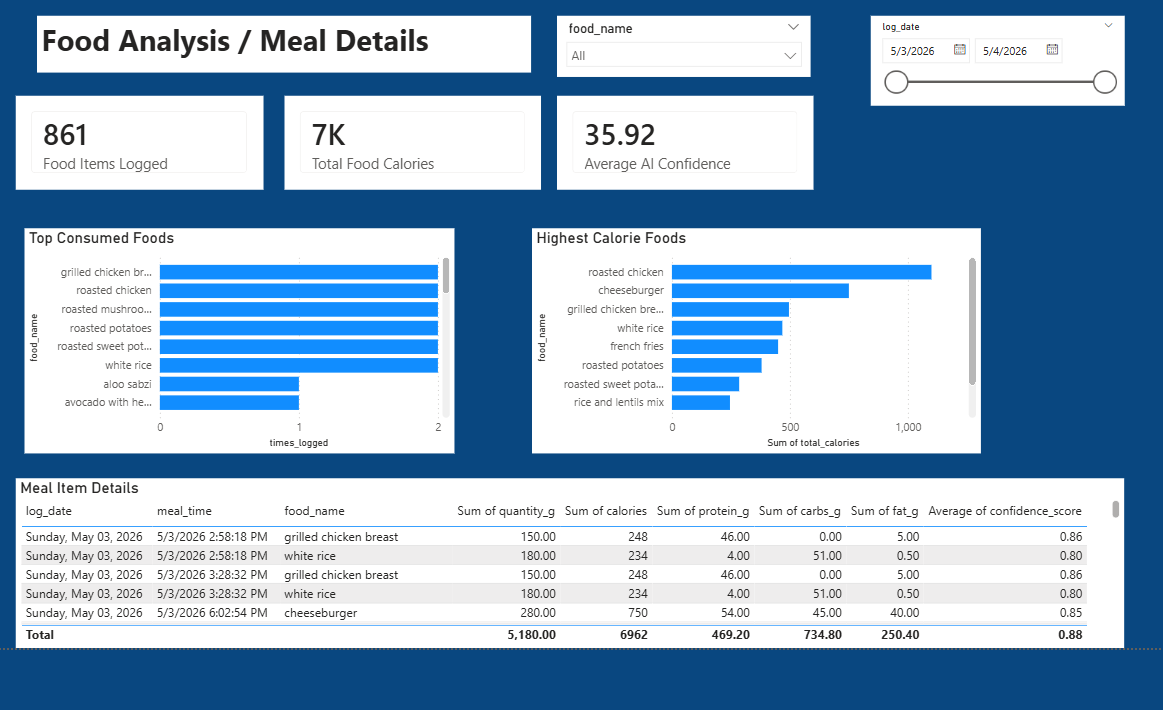

This screenshot's page, from the dashboard's own definition file:
{"tool":"powerbi","page":{"name":"Food Analysis","canvas":[1280,720],"ordinal":2},"visuals":[{"type":"slicer","fields":{"Values":["mart vw_meal_log_details.log_date"]},"box":[959.2,26.1,278.6,98.8],"z":0},{"type":"slicer","fields":{"Values":["mart vw_meal_log_details.food_name"]},"box":[614.8,26.1,278.6,67.2],"z":1000},{"type":"cardVisual","fields":{"Data":["Sum(mart vw_meal_log_details.meal_item_id)"]},"box":[20.6,113.9,271.7,102.9],"z":2000},{"type":"cardVisual","fields":{"Data":["Sum(mart vw_meal_log_details.calories)"]},"box":[315.6,113.9,281.3,102.9],"z":3000},{"type":"cardVisual","fields":{"Data":["Sum(mart vw_meal_log_details.confidence_score)"]},"box":[614.8,113.9,281.3,102.9],"z":4000},{"type":"clusteredBarChart","title":"Top Consumed Foods","fields":{"Category":["mart vw_top_consumed_foods.food_name"],"Y":["Sum(mart vw_top_consumed_foods.times_logged)"]},"box":[30.2,259.3,472,247],"z":5000},{"type":"clusteredBarChart","title":"Highest Calorie Foods","fields":{"Category":["mart vw_top_consumed_foods.food_name"],"Y":["Sum(mart vw_top_consumed_foods.total_calories)"]},"box":[587.3,259.3,492.6,247],"z":6000},{"type":"tableEx","title":"Meal Item Details","fields":{"Values":["mart vw_meal_log_details.log_date","mart vw_meal_log_details.meal_time","mart vw_meal_log_details.food_name","Sum(mart vw_meal_log_details.quantity_g)","Sum(mart vw_meal_log_details.calories)","Sum(mart vw_meal_log_details.protein_g)","Sum(mart vw_meal_log_details.carbs_g)","Sum(mart vw_meal_log_details.fat_g)","Avg(mart vw_meal_log_details.confidence_score)"]},"box":[20.6,533.8,1217.2,186.6],"z":7000},{"type":"textbox","box":[43.9,26.7,542.7,62.7],"z":8000}]}

Visuals, with their boxes in screenshot pixels (x1, y1, x2, y2):
slicer - mart vw_meal_log_details.log_date: (863,17,1112,106)
slicer - mart vw_meal_log_details.food_name: (554,17,804,78)
cardVisual - Sum(mart vw_meal_log_details.meal_item_id): (21,96,265,188)
cardVisual - Sum(mart vw_meal_log_details.calories): (286,96,538,188)
cardVisual - Sum(mart vw_meal_log_details.confidence_score): (554,96,806,188)
"Top Consumed Foods" clusteredBarChart: (30,226,453,448)
"Highest Calorie Foods" clusteredBarChart: (529,226,971,448)
"Meal Item Details" tableEx: (21,472,1112,639)
textbox: (42,18,529,74)
